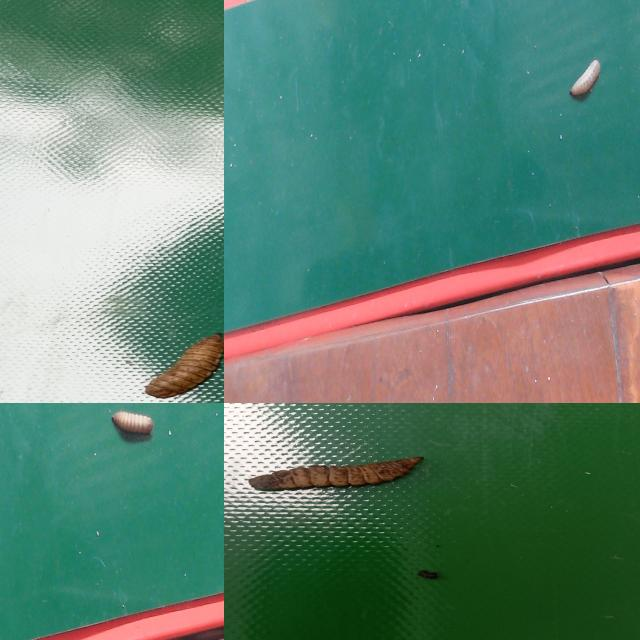Maggot: (248, 458, 425, 494), (145, 335, 224, 401), (560, 55, 603, 106), (110, 410, 154, 444)
